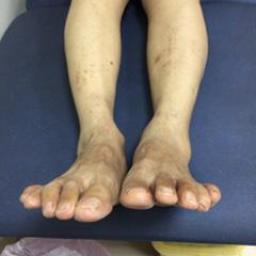Front View -Both Feet-: (14, 88, 225, 230)
